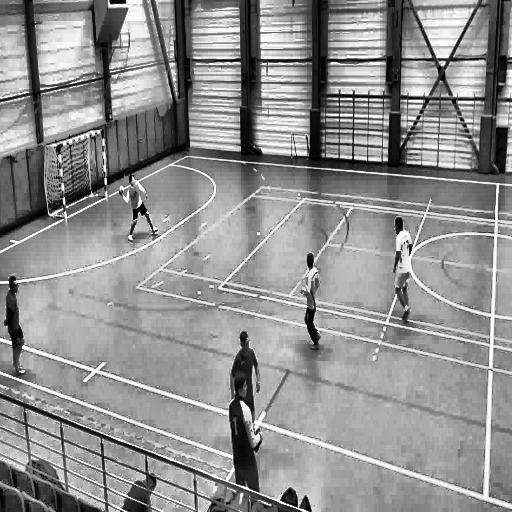ball: (118, 182, 126, 197)
player: (227, 375, 266, 492), (229, 322, 258, 424), (390, 215, 415, 333), (120, 175, 159, 242), (5, 274, 28, 382), (299, 252, 323, 353)
